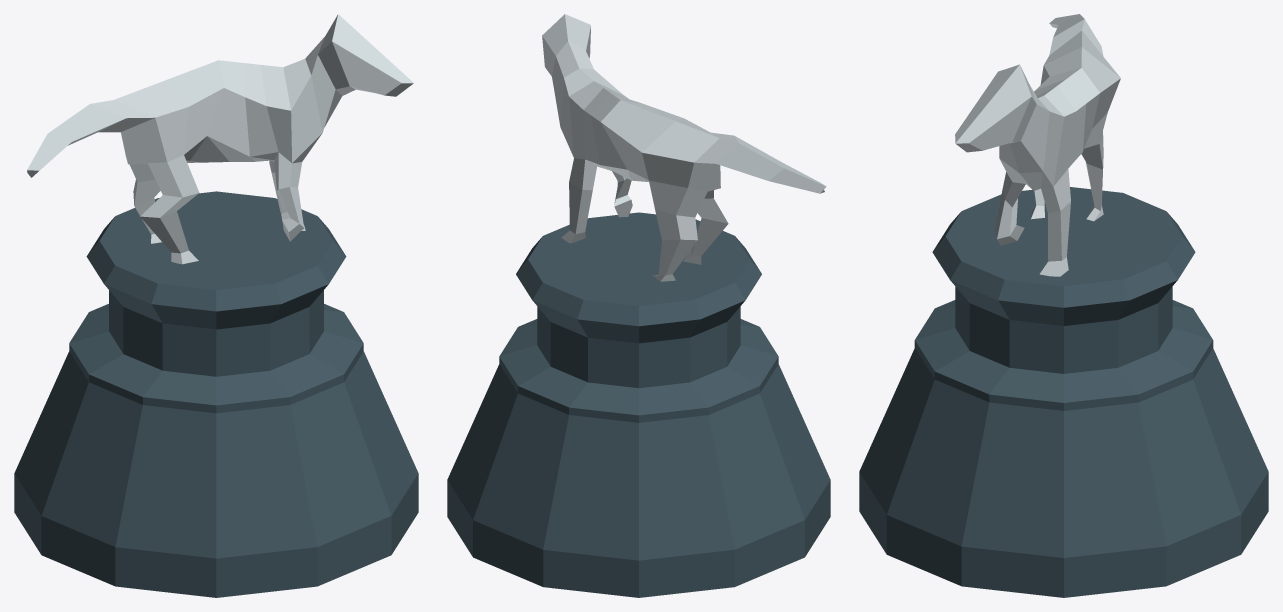
The model's file is statue.fbx.
3 renders of one model, left to right at view 1: azimuth 30°, elevation 25°; view 2: azimuth 150°, elevation 25°; view 3: azimuth 270°, elevation 25°, orthographic. The views are drawn at different scales.
Visible parts, largest first — view 1: mesh_1968237734, mesh_313572034; view 2: mesh_1968237734, mesh_313572034; view 3: mesh_1968237734, mesh_313572034.
Part boxes in pixels (left/top/right/bottom): mesh_1968237734: left=14, top=191, right=418, bottom=597; mesh_313572034: left=27, top=14, right=413, bottom=264; mesh_1968237734: left=447, top=212, right=830, bottom=597; mesh_313572034: left=542, top=14, right=826, bottom=281; mesh_1968237734: left=859, top=187, right=1268, bottom=597; mesh_313572034: left=955, top=14, right=1120, bottom=276.
Bounding box in the file's own units: 97.98 × 124 × 93.
